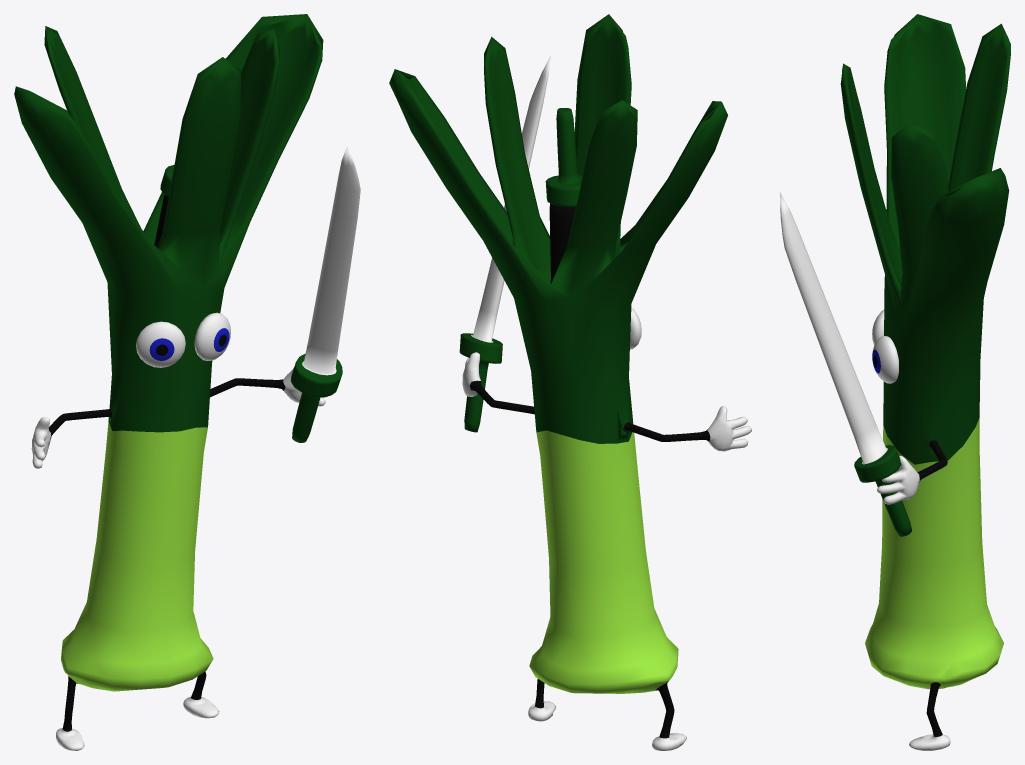
The model's file is Poireau.FBX.
3 views of the same model, side by side, from view 1: azimuth 30°, elevation 25°; view 2: azimuth 150°, elevation 25°; view 3: azimuth 270°, elevation 25° (orthographic). The views are drawn at different scales.
Parts seen in each view (by area): view 1: Box002; view 2: Box002; view 3: Box002.
Boxes of the visible parts, x1,y1,x2,y2 form: Box002: (14,14,360,750); Box002: (389,14,751,750); Box002: (780,14,1010,750).
Bounding box in the file's own units: 80.53 × 166 × 51.62.
